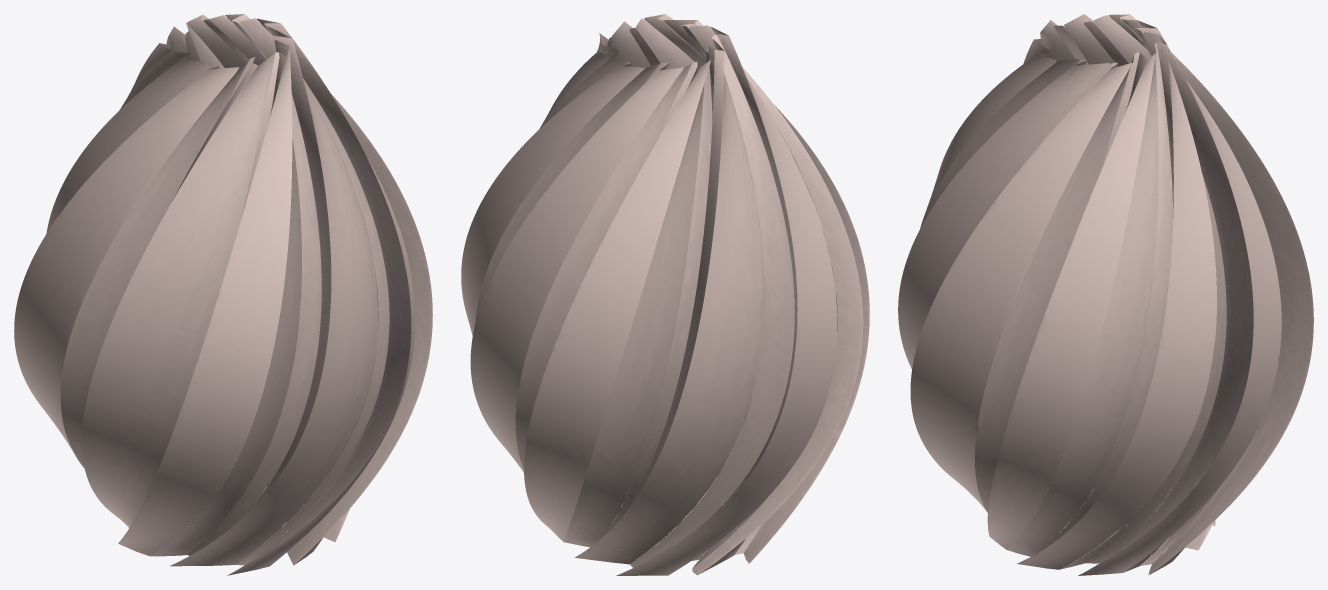
Rendered from blade-solo-e2cbc5.glb.
3 renders of one model, left to right at view 1: azimuth 30°, elevation 25°; view 2: azimuth 150°, elevation 25°; view 3: azimuth 270°, elevation 25°, orthographic.
Visible parts, largest first — view 1: Blade; view 2: Blade; view 3: Blade.
Part boxes in pixels (left/top/right/bottom): Blade: left=14, top=14, right=432, bottom=575; Blade: left=461, top=14, right=869, bottom=575; Blade: left=898, top=14, right=1313, bottom=575.
Bounding box in the file's own units: 0.2775 × 0.37 × 0.2841.
